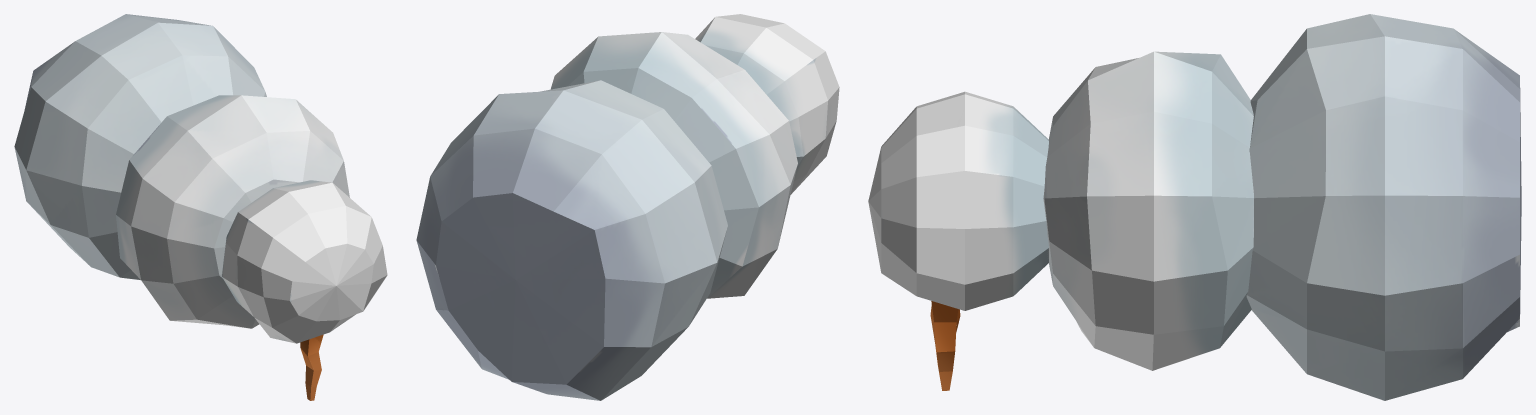
File: snowman.glb
The picture shows the model from 3 angles, left to right: view 1: azimuth 30°, elevation 25°; view 2: azimuth 150°, elevation 25°; view 3: azimuth 270°, elevation 25°; orthographic projection. The views are drawn at different scales.
Parts seen in each view (by area): view 1: Sphere, Sphere.001, Sphere.002, Cube; view 2: Sphere, Sphere.001, Sphere.002; view 3: Sphere, Sphere.001, Sphere.002, Cube.
Boxes of the visible parts, x1,y1,x2,y2 form: Sphere: (14, 14, 266, 280); Sphere.001: (116, 95, 349, 328); Sphere.002: (222, 180, 387, 343); Cube: (300, 334, 323, 400); Sphere: (416, 80, 727, 400); Sphere.001: (550, 32, 797, 298); Sphere.002: (695, 14, 839, 194); Sphere: (1246, 14, 1521, 400); Sphere.001: (1043, 51, 1253, 370); Sphere.002: (868, 91, 1048, 310); Cube: (930, 301, 960, 390).
Bounding box in the file's own units: 2.22 × 2.3 × 3.82.
1 material, 1 textured.
